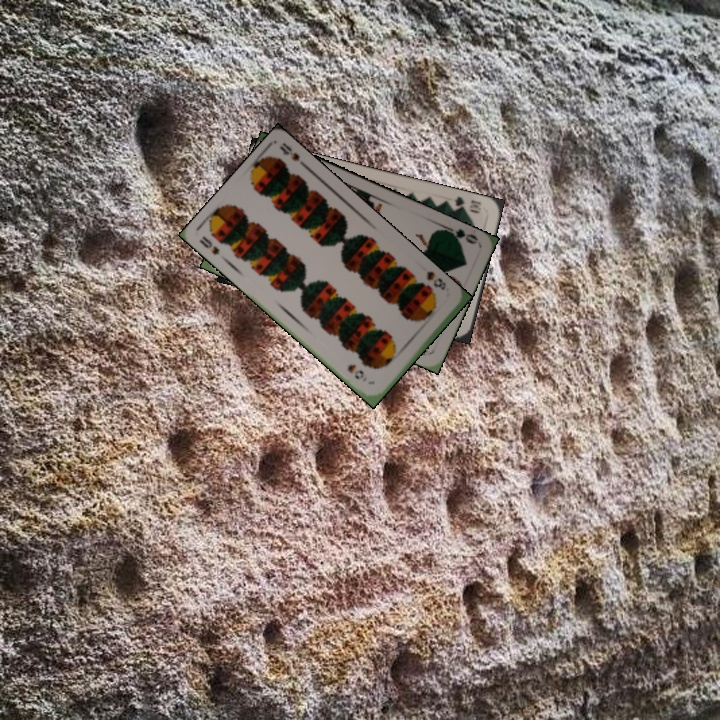G10: (445, 192, 483, 216)
GO: (440, 222, 480, 247)
S8: (195, 232, 222, 258), (423, 267, 448, 293)
